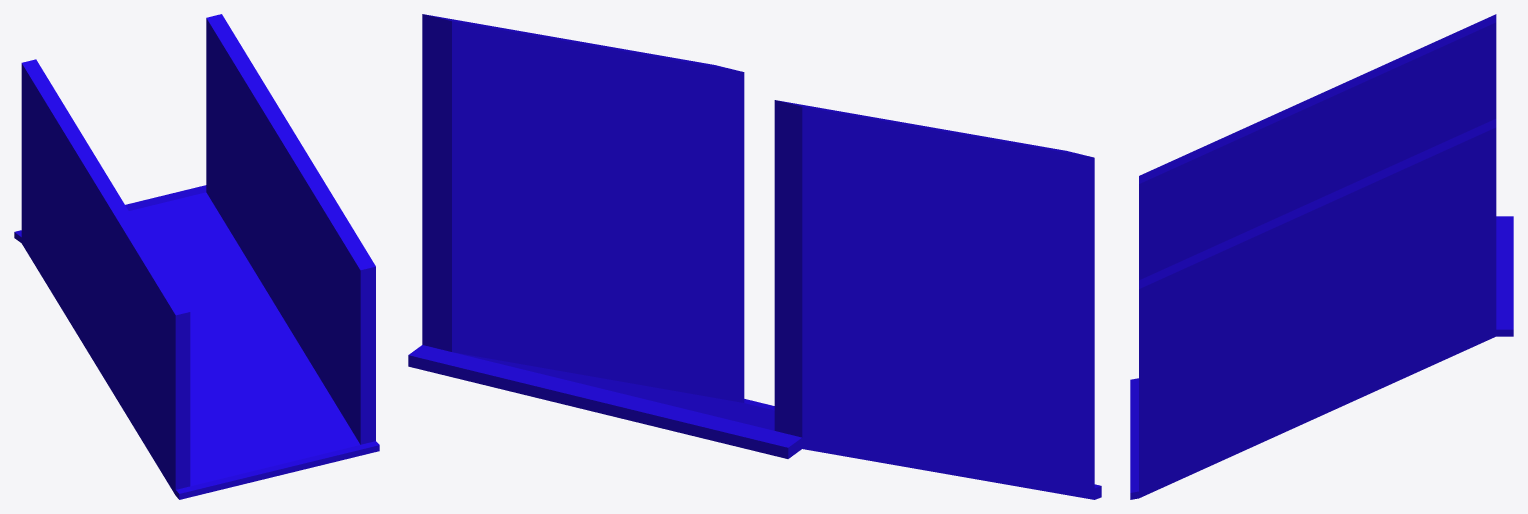
Rendered from SM_Garden_Stairs_COL.fbx.
The picture shows the model from 3 angles, left to right: view 1: azimuth 30°, elevation 25°; view 2: azimuth 150°, elevation 25°; view 3: azimuth 270°, elevation 25°; orthographic projection. The views are drawn at different scales.
Visible parts, largest first — view 1: SM_Garden_Stairs_COL; view 2: SM_Garden_Stairs_COL; view 3: SM_Garden_Stairs_COL.
Part boxes in pixels (left/top/right/bottom): SM_Garden_Stairs_COL: left=14, top=14, right=379, bottom=499; SM_Garden_Stairs_COL: left=408, top=14, right=1101, bottom=499; SM_Garden_Stairs_COL: left=1130, top=14, right=1513, bottom=499.
Bounding box in the file's own units: 3 × 4.6 × 4.29.
